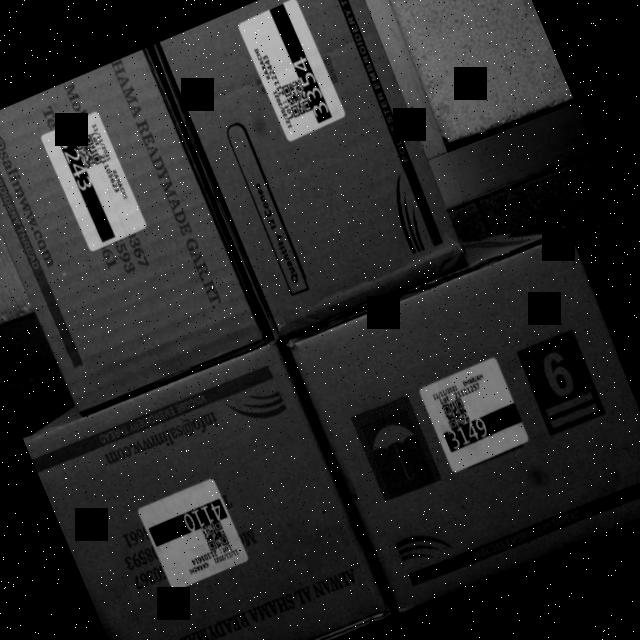box: (286, 227, 640, 619), (25, 341, 391, 640), (155, 0, 468, 336), (0, 47, 266, 415)
